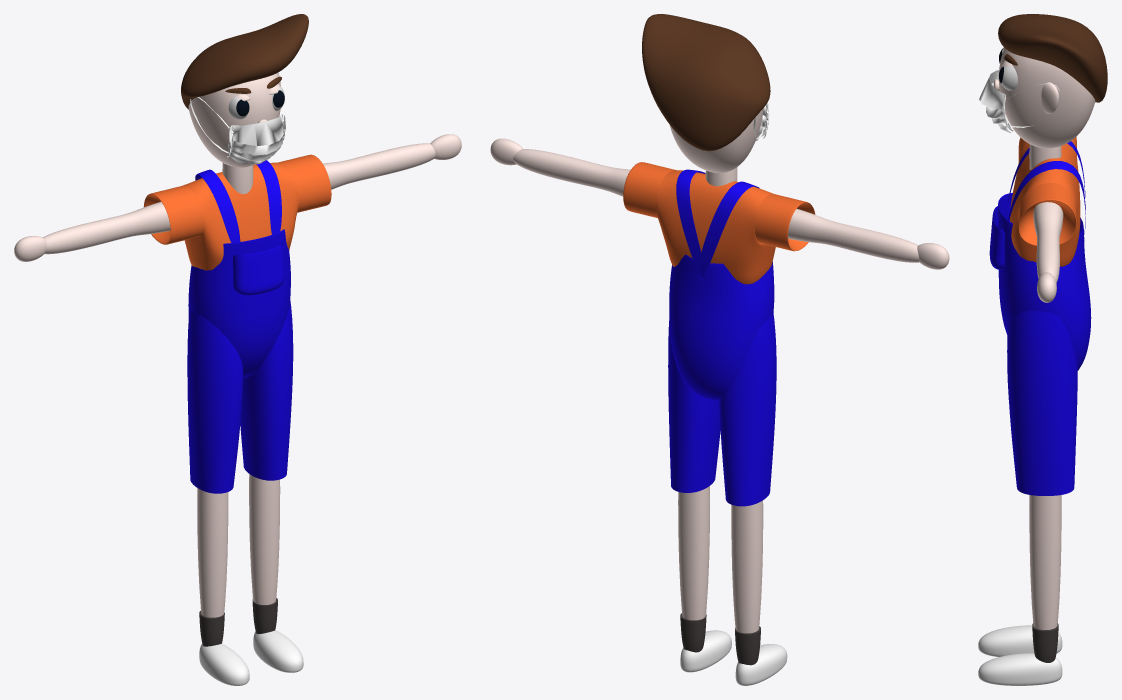
The model's file is Bartender.fbx.
3 renders of one model, left to right at view 1: azimuth 30°, elevation 25°; view 2: azimuth 150°, elevation 25°; view 3: azimuth 270°, elevation 25°, orthographic. The views are drawn at different scales.
Parts seen in each view (by area): view 1: Cube.019, Cube.005, Cube.014, Plane, Cube.002, Cube; view 2: Cube.019, Cube.005, Cube.002, Cube.014; view 3: Cube.019, Cube.014, Cube.005, Cube.002, Plane, Cube, Cube.015, Sphere.002.
Boxes of the visible parts, left/top/right/bottom form: Cube.019: left=14, top=134, right=461, bottom=685; Cube.005: left=181, top=14, right=308, bottom=109; Cube.014: left=188, top=72, right=280, bottom=167; Plane: left=227, top=114, right=285, bottom=164; Cube.002: left=195, top=160, right=281, bottom=242; Cube: left=222, top=163, right=253, bottom=194; Cube.019: left=490, top=138, right=949, bottom=685; Cube.005: left=642, top=14, right=770, bottom=151; Cube.002: left=676, top=169, right=759, bottom=279; Cube.014: left=669, top=108, right=763, bottom=172; Cube.019: left=978, top=137, right=1091, bottom=685; Cube.014: left=998, top=48, right=1095, bottom=148; Cube.005: left=998, top=14, right=1107, bottom=102; Cube.002: left=1007, top=141, right=1085, bottom=240; Plane: left=979, top=70, right=1013, bottom=133; Cube: left=1029, top=144, right=1061, bottom=169; Cube.015: left=1041, top=82, right=1059, bottom=113; Sphere.002: left=999, top=48, right=1017, bottom=90.
Bounding box in the file's own units: 525 × 706 × 125.
